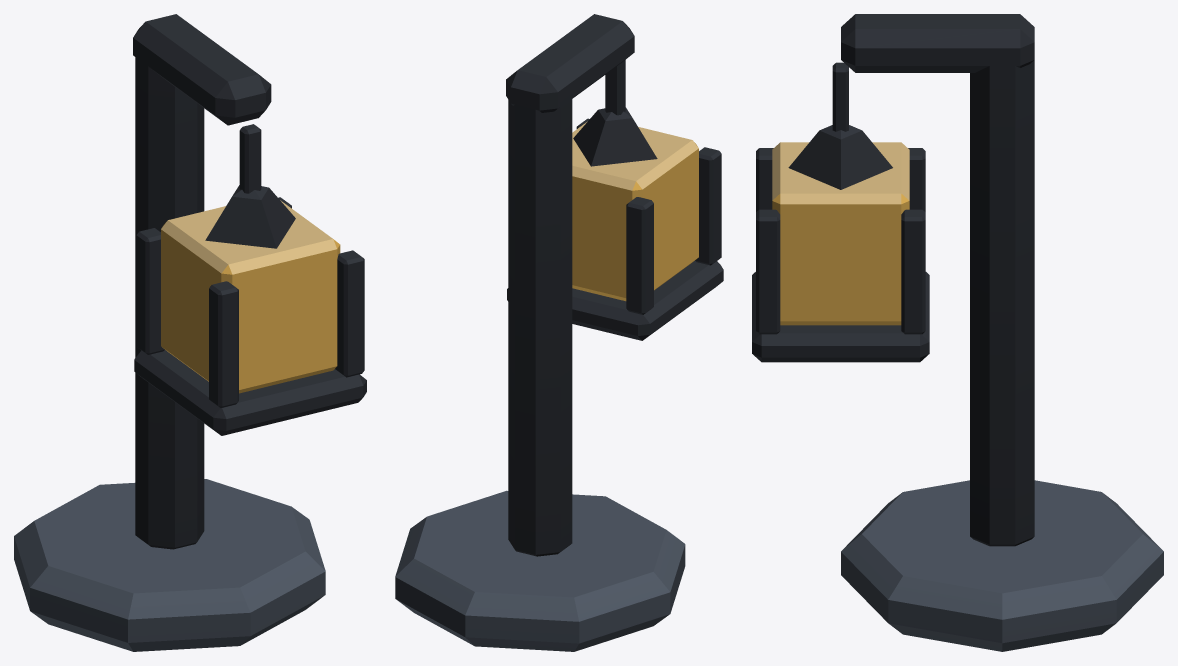
File: lantern.glb
3 views of the same model, side by side, from view 1: azimuth 30°, elevation 25°; view 2: azimuth 150°, elevation 25°; view 3: azimuth 270°, elevation 25° (orthographic). The views are drawn at different scales.
Parts seen in each view (by area): view 1: mesh_lantern; view 2: mesh_lantern; view 3: mesh_lantern.
Part boxes in pixels (<box>): mesh_lantern: <box>14,14,366,651</box>; mesh_lantern: <box>395,14,723,651</box>; mesh_lantern: <box>752,14,1163,651</box>.
Bounding box in the file's own units: 0.4 × 0.78 × 0.51.
